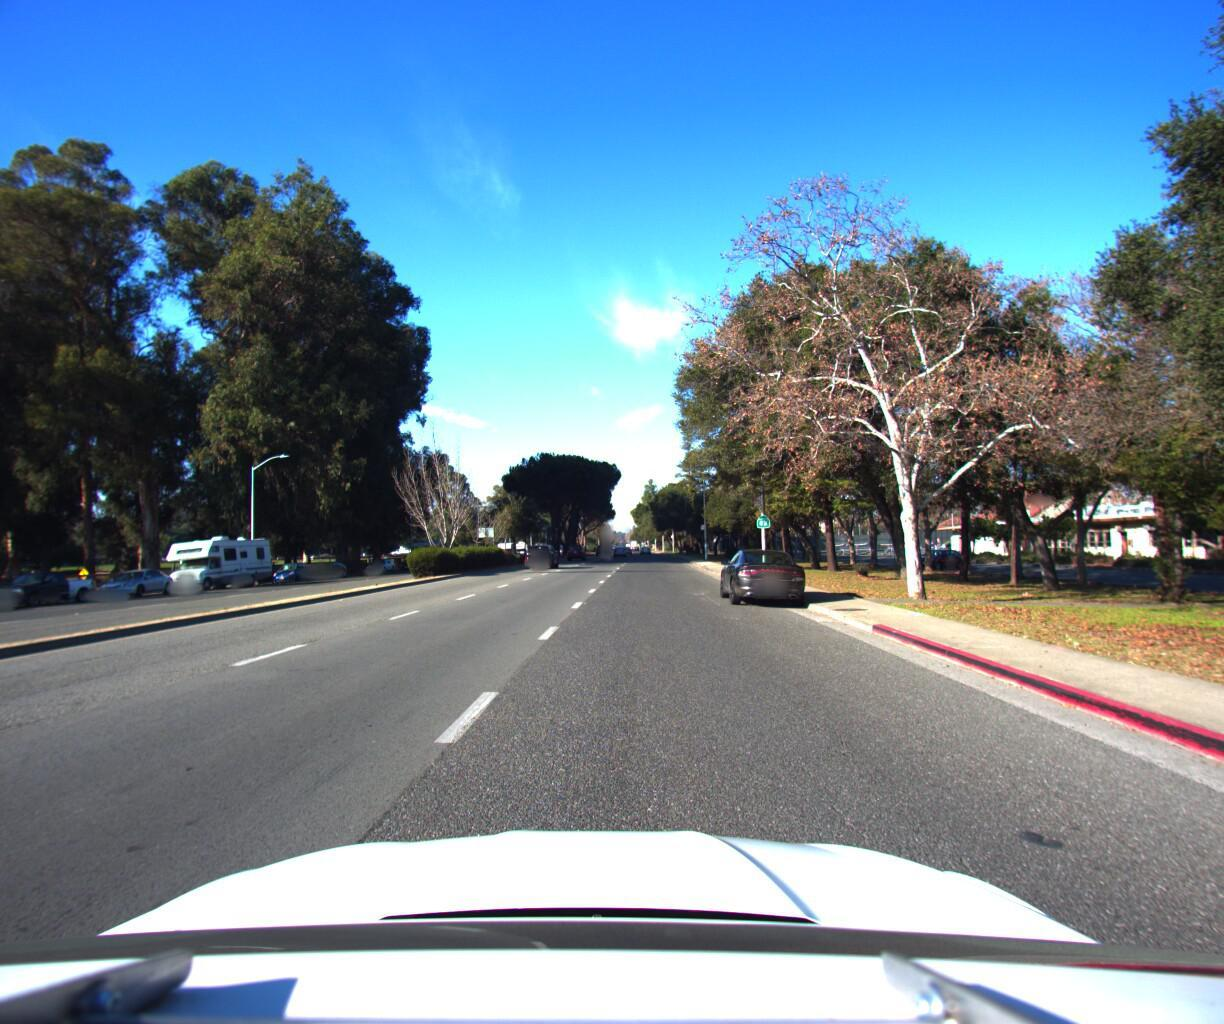car: (713, 542, 812, 608), (0, 565, 108, 612), (96, 564, 183, 600), (272, 557, 318, 583), (524, 541, 560, 571), (311, 557, 354, 578), (365, 554, 401, 573), (565, 542, 587, 559)
other_vehicle: (157, 527, 282, 593)
